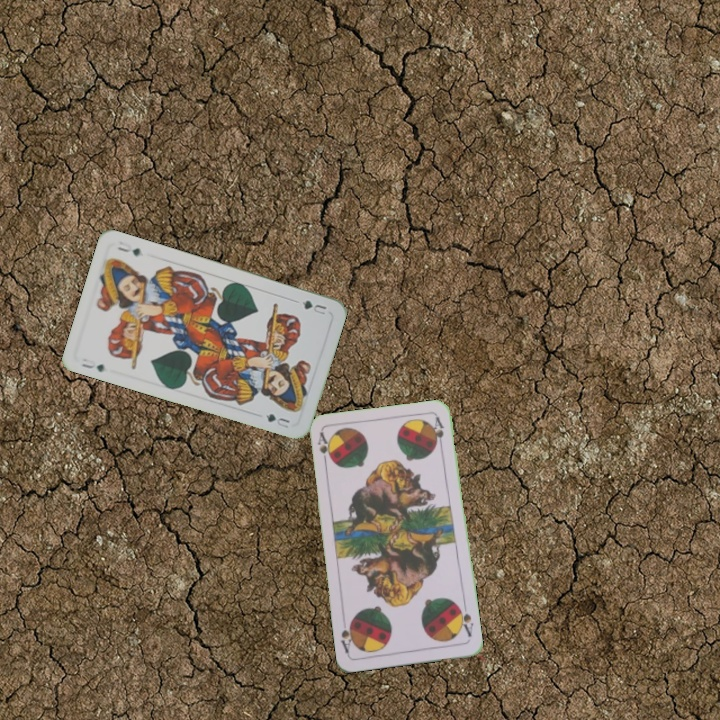GU: (298, 296, 329, 317), (77, 354, 107, 375)
SA: (454, 601, 476, 639), (313, 429, 333, 469)
